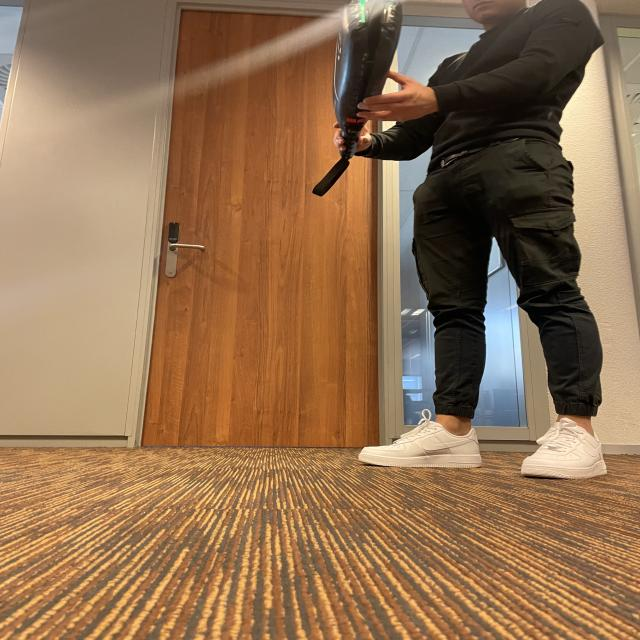paddle: (332, 0, 398, 118)
trigger: (354, 0, 368, 28)
